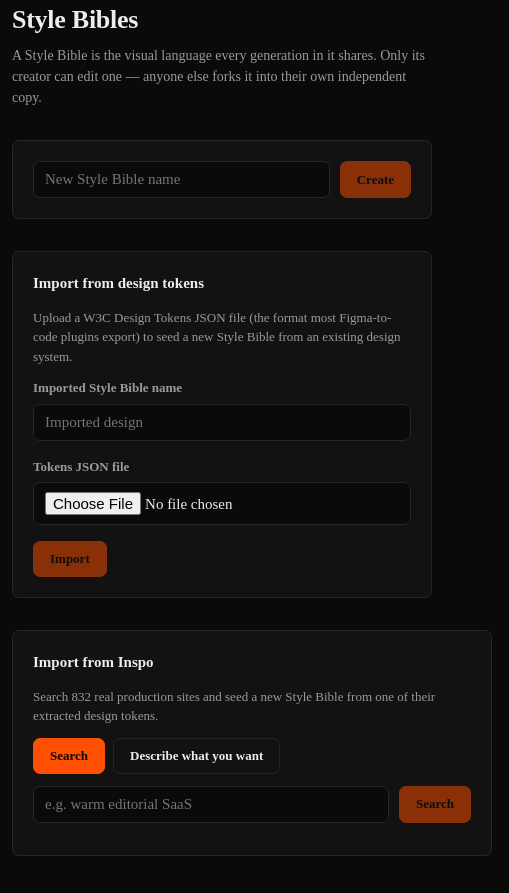
Scenario: Style Bibles create-error link › does not show a Log in again link for a non-auth create error
Step 1. Type "My Style" into the field with placeholder "New Style Bible name" → {"x": 181, "y": 180}, box x1=33 y1=161 x2=330 y2=198
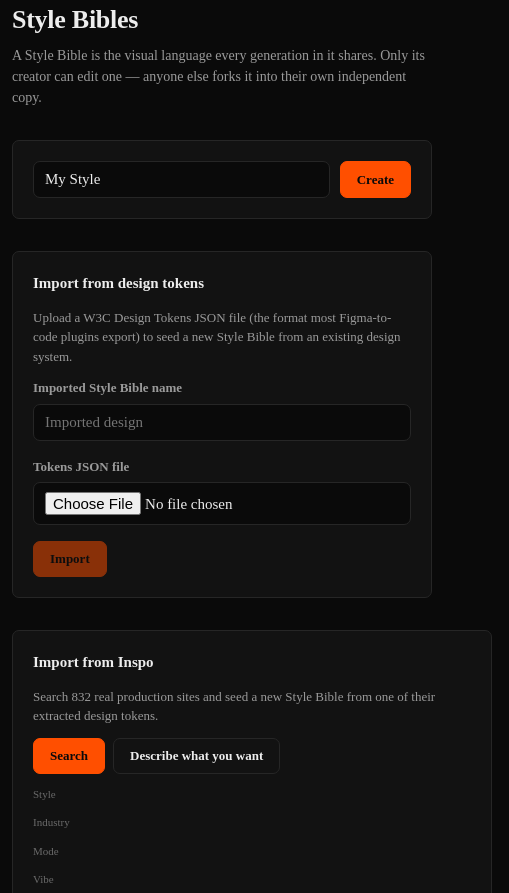
Step 2. Click the button "Create" → {"x": 375, "y": 180}, box x1=340 y1=161 x2=411 y2=198
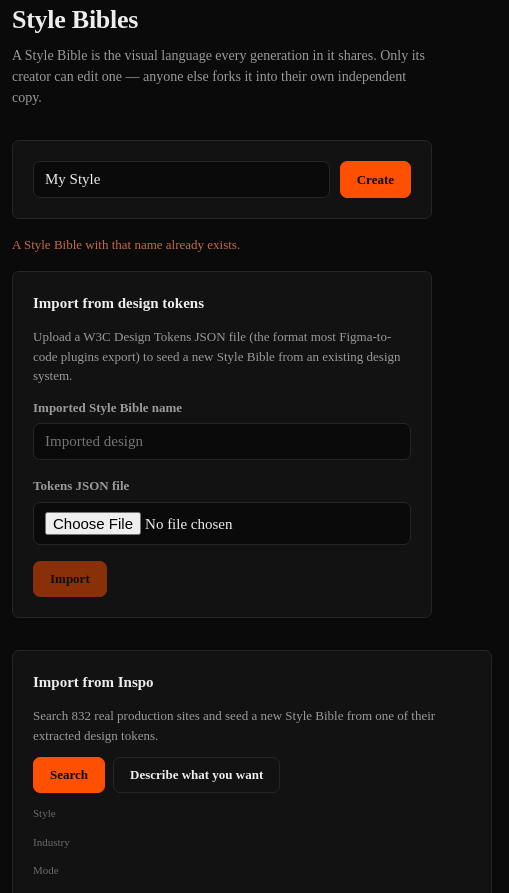
Now the text "A Style Bible with that name already exists." is shown, box x1=12 y1=237 x2=240 y2=252
